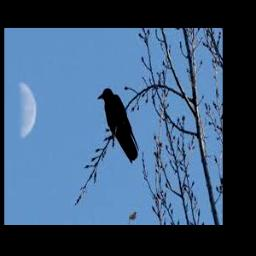Crow: (97, 87, 139, 164)
